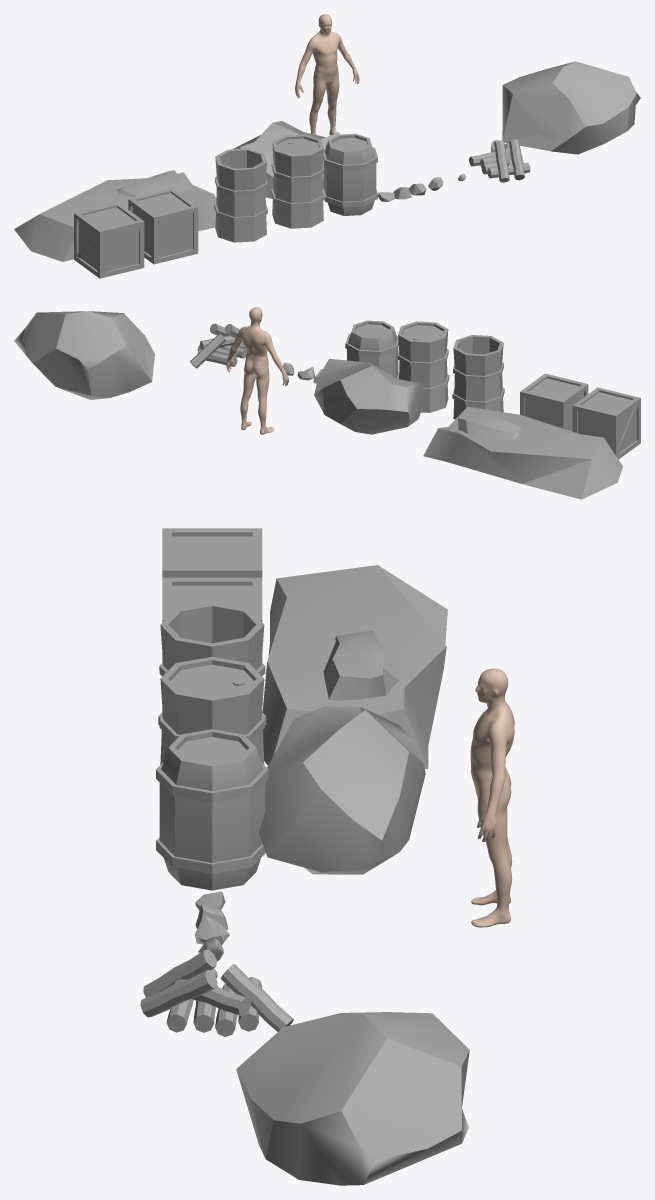
File: Forest Assets 1.fbx
The picture shows the model from 3 angles, top to bottom: view 1: azimuth 30°, elevation 25°; view 2: azimuth 150°, elevation 25°; view 3: azimuth 270°, elevation 25°; orthographic projection. The views are drawn at different scales.
Visible parts, largest first — view 1: Medium_Rock_1, Medium_Rock_3, Metal_Barrel_1, Metal_Barrel_2, Wood_Crate_2, Wood_Barrel, Wood_Crate_1, HumanBody:humanBody, Campfire_Combined, Medium_Rock_2; view 2: Medium_Rock_3, Medium_Rock_1, Medium_Rock_2, Metal_Barrel_2, Metal_Barrel_1, Wood_Crate_2, HumanBody:humanBody, Wood_Crate_1, Wood_Barrel, Campfire_Combined; view 3: Medium_Rock_1, Medium_Rock_3, Medium_Rock_2, Wood_Barrel, Metal_Barrel_1, HumanBody:humanBody, Campfire_Combined, Metal_Barrel_2, Wood_Crate_2, Wood_Crate_1.
Part boxes in pixels (<box>): Medium_Rock_1: <box>502,61,640,154</box>; Medium_Rock_3: <box>14,170,216,261</box>; Metal_Barrel_1: <box>271,134,324,228</box>; Metal_Barrel_2: <box>214,148,267,242</box>; Wood_Crate_2: <box>74,202,144,278</box>; Wood_Barrel: <box>322,133,377,215</box>; Wood_Crate_1: <box>128,188,198,264</box>; HumanBody:humanBody: <box>295,14,359,135</box>; Campfire_Combined: <box>469,139,530,182</box>; Medium_Rock_2: <box>233,121,340,198</box>; Medium_Rock_3: <box>423,406,622,499</box>; Medium_Rock_1: <box>14,311,154,399</box>; Medium_Rock_2: <box>314,358,422,434</box>; Metal_Barrel_2: <box>452,335,504,419</box>; Metal_Barrel_1: <box>397,321,449,412</box>; Wood_Crate_2: <box>572,387,640,459</box>; HumanBody:humanBody: <box>226,307,288,434</box>; Wood_Crate_1: <box>520,373,588,431</box>; Wood_Barrel: <box>345,320,399,377</box>; Campfire_Combined: <box>190,323,246,368</box>; Medium_Rock_1: <box>236,1012,469,1185</box>; Medium_Rock_3: <box>262,565,447,768</box>; Medium_Rock_2: <box>259,706,425,874</box>; Wood_Barrel: <box>156,729,268,890</box>; Metal_Barrel_1: <box>159,656,265,762</box>; HumanBody:humanBody: <box>470,668,514,927</box>; Campfire_Combined: <box>140,949,293,1036</box>; Metal_Barrel_2: <box>158,602,266,764</box>; Wood_Crate_2: <box>162,528,262,577</box>; Wood_Crate_1: <box>162,577,262,709</box>.
Bounding box in the file's own units: 935 × 225 × 253.
